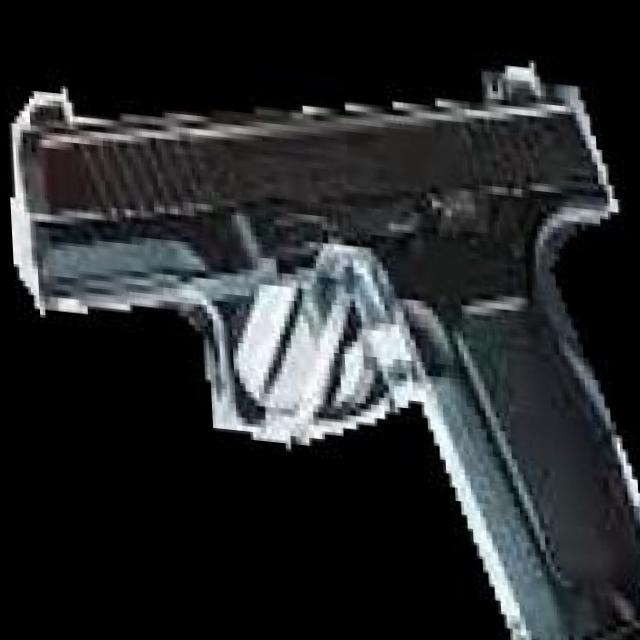handgun: (8, 50, 640, 640)
